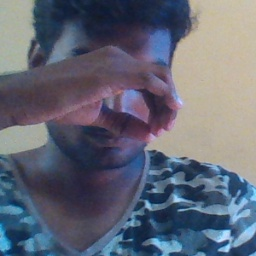O: (33, 34, 183, 155)
